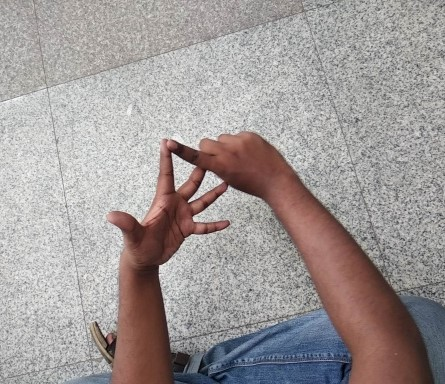o: (105, 134, 276, 273)
